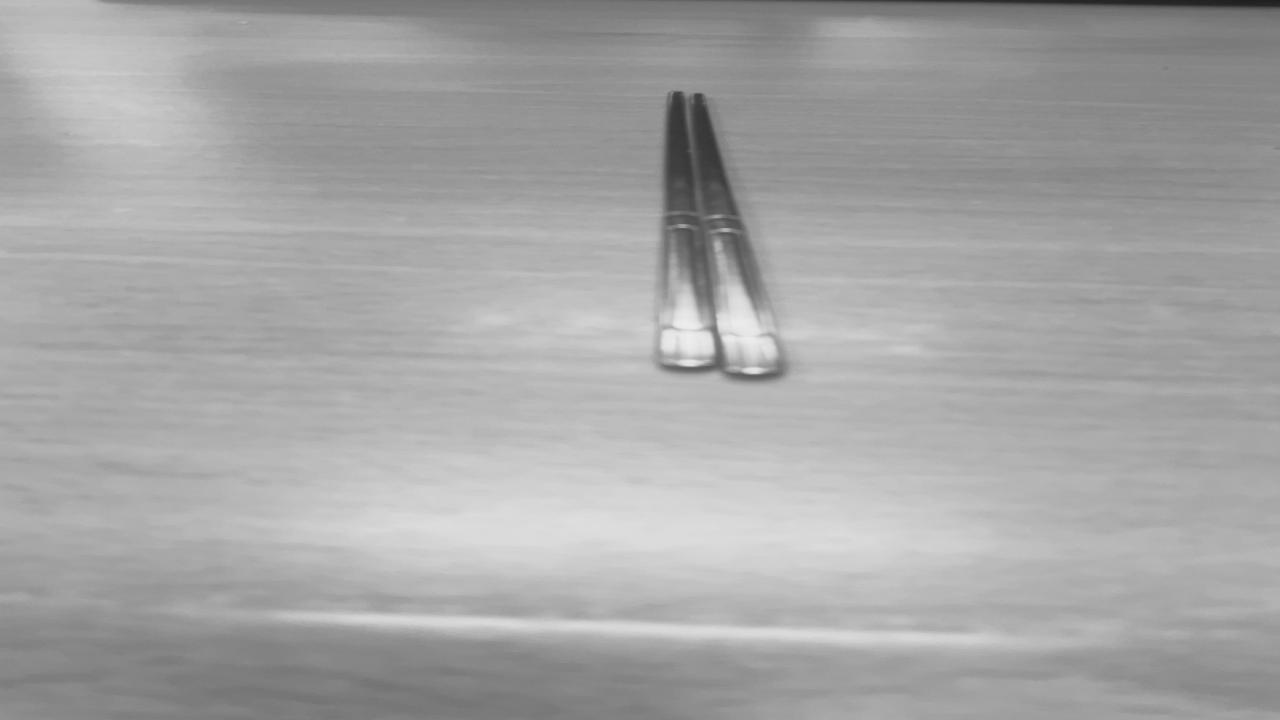chopstick: (662, 93, 774, 372)
